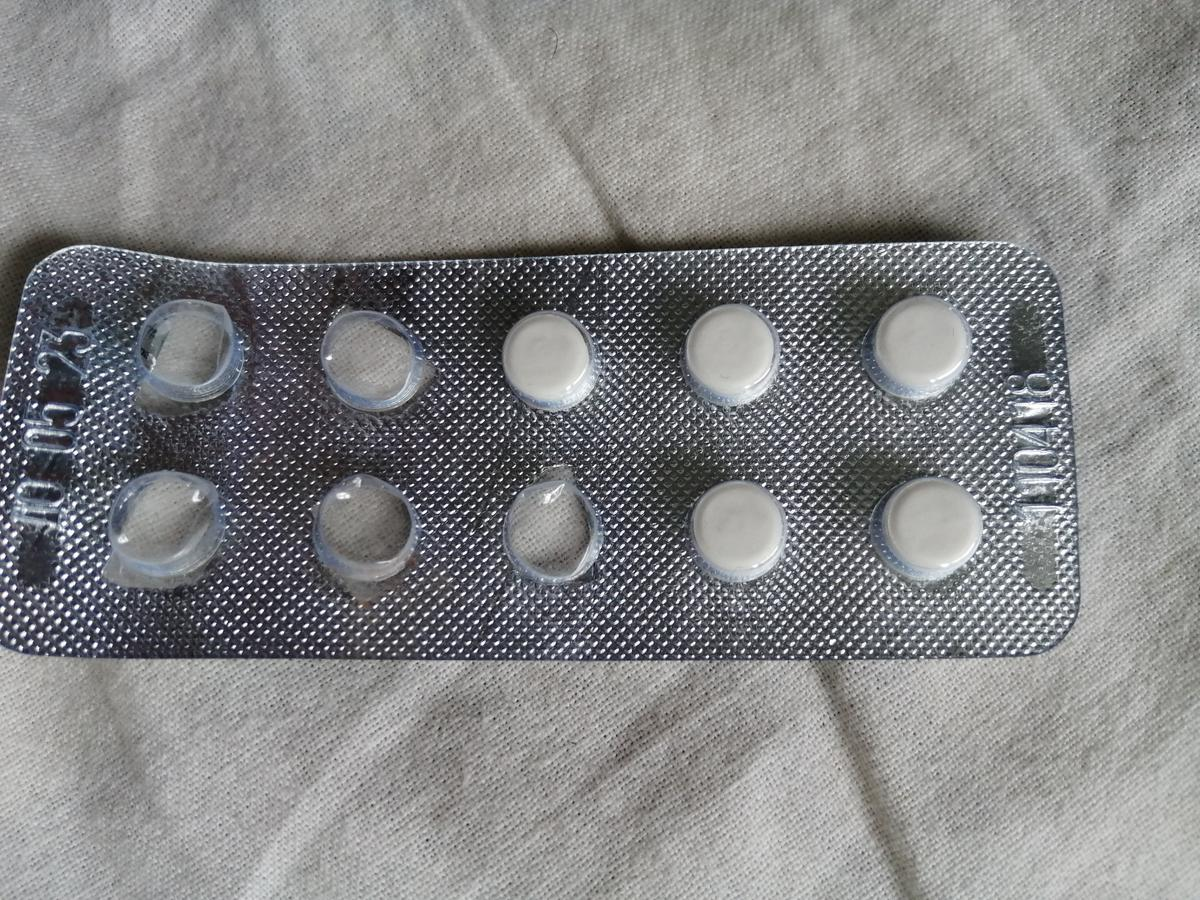tablet: (679, 298, 787, 406), (881, 476, 985, 588), (685, 478, 789, 588), (495, 306, 601, 410), (867, 292, 967, 398)
